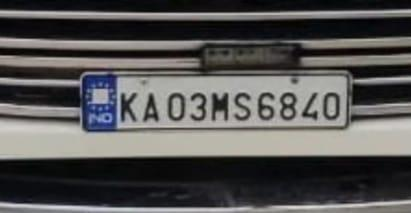0: (163, 90, 187, 123), (322, 90, 343, 122)
3: (187, 88, 209, 123)
4: (300, 89, 321, 124)
6: (256, 88, 278, 125)
8: (278, 90, 299, 125)
A: (140, 88, 161, 124)
K: (119, 89, 139, 124)
M: (209, 91, 233, 123)
S: (230, 87, 253, 122)
